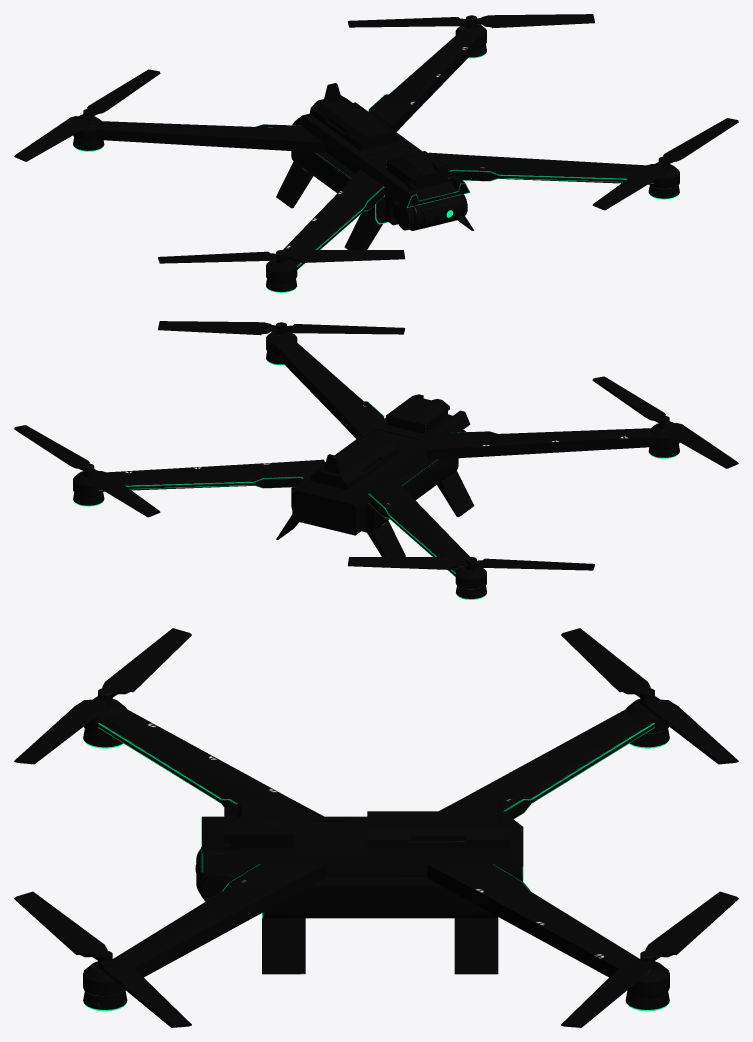
File: Drone.fbx
3 views of the same model, one above another, from view 1: azimuth 30°, elevation 25°; view 2: azimuth 150°, elevation 25°; view 3: azimuth 270°, elevation 25° (orthographic). The views are drawn at different scales.
Visible parts, largest first — view 1: polySurface11, polySurface6, polySurface12, polySurface10, polySurface7, polySurface2, polySurface8, polySurface9, polySurface3, pCylinder2, polySurface4; view 2: polySurface10, polySurface12, polySurface6, polySurface11, polySurface7, polySurface2, polySurface8, polySurface9; view 3: polySurface6, polySurface12, polySurface2, polySurface11, polySurface10, polySurface7, polySurface8, polySurface9.
Boxes of the visible parts, box(x1,y1,x2,y2) form: polySurface11: box(14, 69, 325, 161); polySurface6: box(428, 118, 738, 210); polySurface12: box(348, 14, 594, 131); polySurface10: box(158, 169, 404, 291); polySurface7: box(292, 102, 470, 225); polySurface2: box(276, 151, 474, 249); polySurface8: box(309, 83, 398, 150); polySurface9: box(386, 151, 449, 190); polySurface3: box(410, 195, 462, 230); pCylinder2: box(392, 194, 467, 230); polySurface4: box(422, 203, 456, 227); polySurface10: box(427, 376, 738, 468); polySurface12: box(14, 425, 324, 517); polySurface6: box(158, 321, 404, 438); polySurface11: box(348, 476, 594, 598); polySurface7: box(292, 410, 470, 535); polySurface2: box(276, 458, 474, 556); polySurface8: box(309, 434, 398, 489); polySurface9: box(386, 394, 449, 433); polySurface6: box(14, 864, 325, 1027); polySurface12: box(427, 864, 738, 1027); polySurface2: box(262, 876, 498, 974); polySurface11: box(439, 628, 738, 819); polySurface10: box(14, 628, 323, 816); polySurface7: box(201, 816, 523, 881); polySurface8: box(367, 794, 509, 848); polySurface9: box(224, 803, 294, 849).
Bounding box in the file's own units: 38.19 × 6.18 × 29.44.
